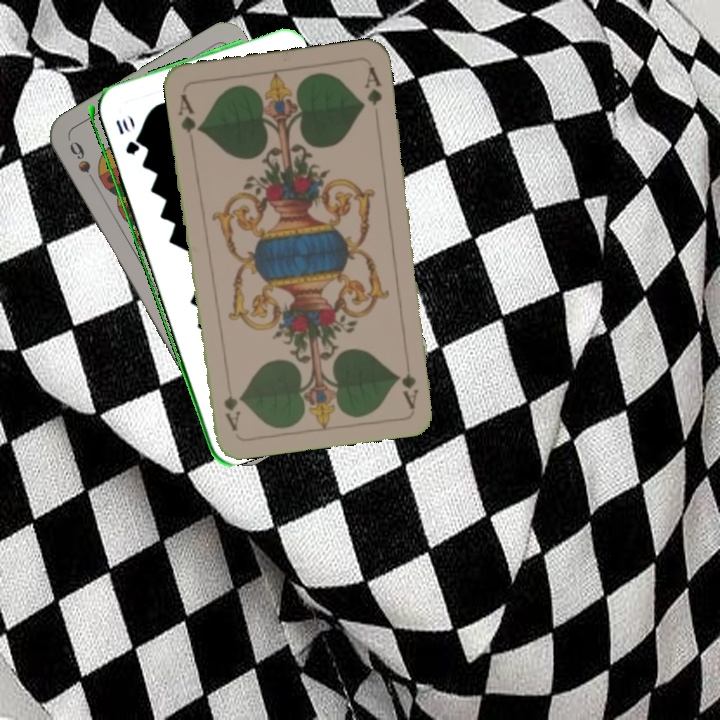G10: (112, 115, 138, 158)
GA: (174, 90, 204, 147), (397, 351, 421, 410)
S9: (65, 136, 102, 191)
